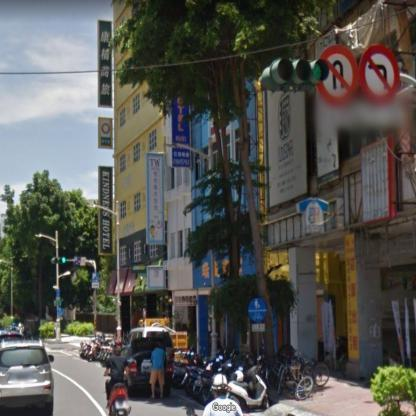Green Light: (266, 56, 328, 86), (50, 254, 69, 264)
